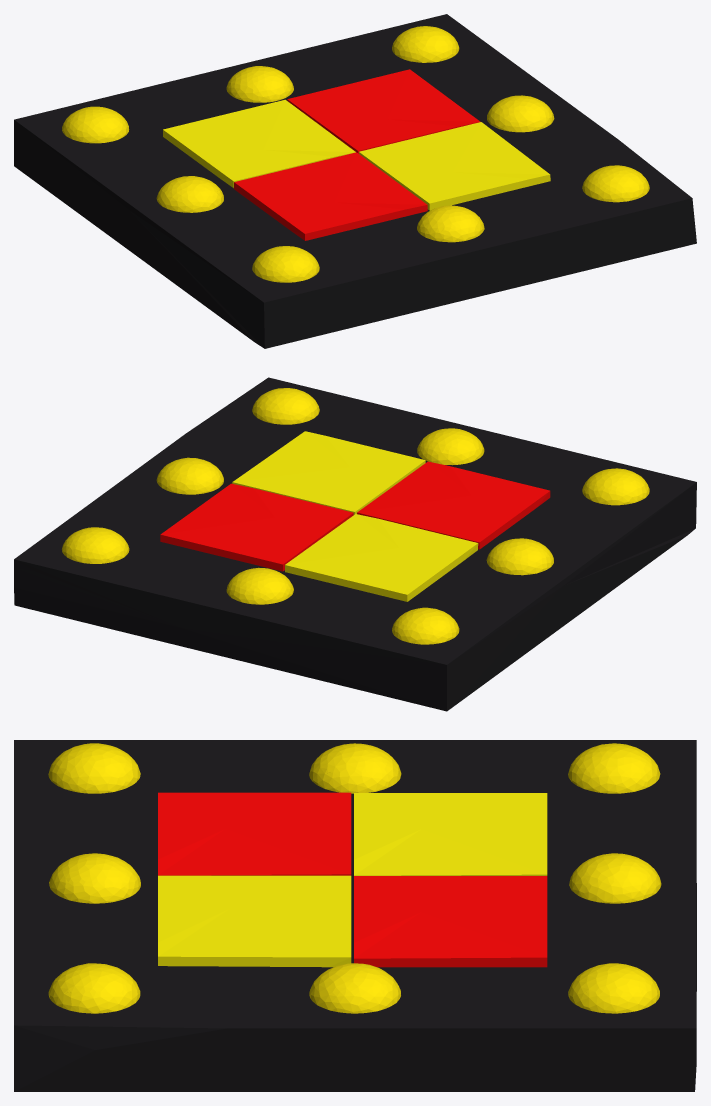
The model's file is Rochefort_LOD1.glb.
The picture shows the model from 3 angles, top to bottom: view 1: azimuth 30°, elevation 25°; view 2: azimuth 150°, elevation 25°; view 3: azimuth 270°, elevation 25°; orthographic projection. The views are drawn at different scales.
Parts seen in each view (by area): view 1: Box (×2), Sphere, Box 1, Box 3, Box 2; view 2: Box (×2), Sphere, Box 3, Box 2, Box 1; view 3: Box (×2), Sphere, Box 2, Box 1, Box 3.
Boxes of the visible parts, <box> form: Box (×2): <box>14,14,696,348</box>; Sphere: <box>62,26,649,282</box>; Box 1: <box>234,152,427,240</box>; Box 3: <box>163,99,355,188</box>; Box 2: <box>287,69,480,153</box>; Box (×2): <box>14,377,696,711</box>; Sphere: <box>62,388,649,644</box>; Box 3: <box>285,514,478,601</box>; Box 2: <box>160,483,353,571</box>; Box 1: <box>357,461,550,549</box>; Box (×2): <box>14,740,696,1091</box>; Sphere: <box>48,743,661,1013</box>; Box 2: <box>354,876,547,967</box>; Box 1: <box>158,792,351,875</box>; Box 3: <box>354,793,547,875</box>.
Bounding box in the file's own units: 7.36 × 1.05 × 7.36.
